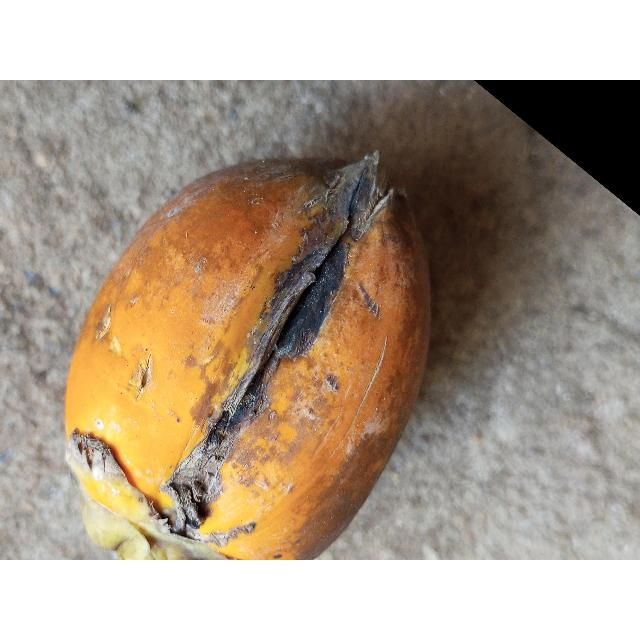damaged: (65, 151, 430, 560)
